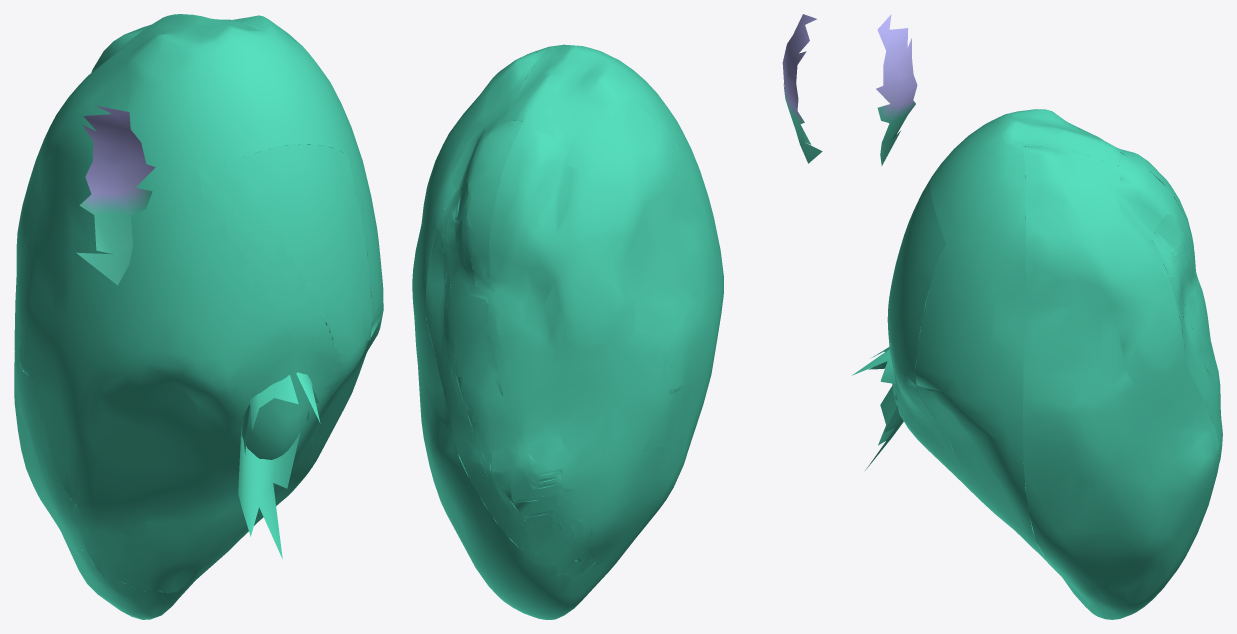
The model's file is Pata_DD.obj.
3 views of the same model, side by side, from view 1: azimuth 30°, elevation 25°; view 2: azimuth 150°, elevation 25°; view 3: azimuth 270°, elevation 25° (orthographic). The views are drawn at different scales.
Visible parts, largest first — view 1: Pata_DD; view 2: Pata_DD; view 3: Pata_DD.
Boxes of the visible parts, <box> form: Pata_DD: <box>14,14,383,619</box>; Pata_DD: <box>412,14,822,619</box>; Pata_DD: <box>852,14,1222,619</box>.
Size of the model in its own units: 36.23 by 62.19 by 39.55.
